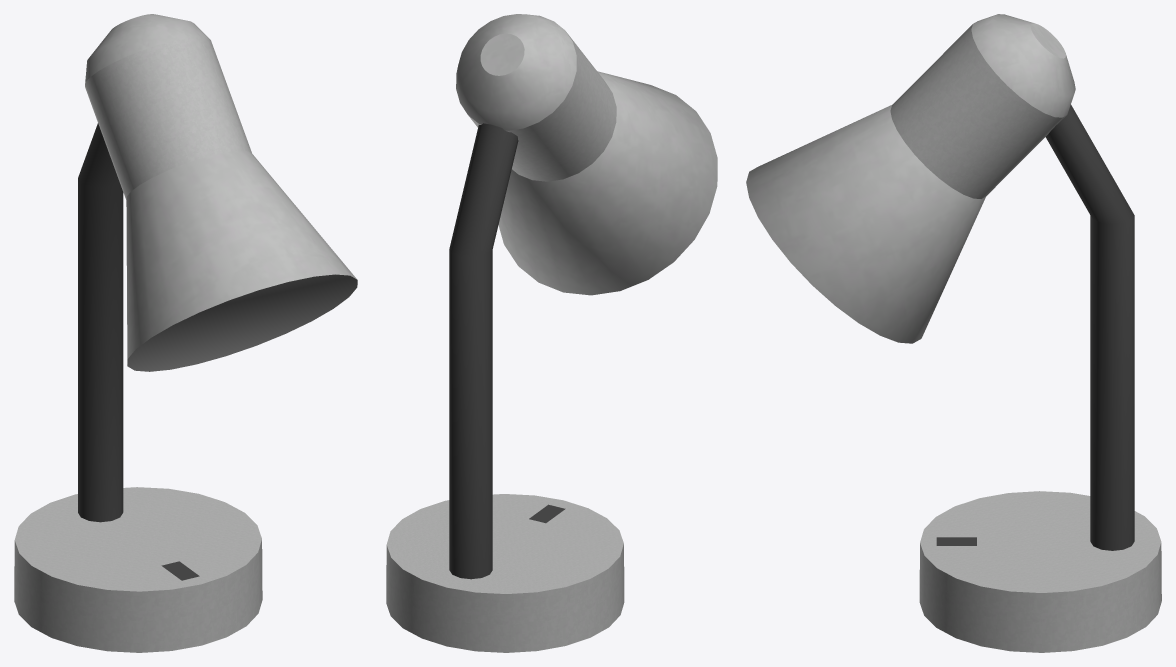
Rendered from propLamp.fbx.
3 views of the same model, side by side, from view 1: azimuth 30°, elevation 25°; view 2: azimuth 150°, elevation 25°; view 3: azimuth 270°, elevation 25° (orthographic). The views are drawn at different scales.
Parts seen in each view (by area): view 1: propLamp; view 2: propLamp; view 3: propLamp.
Part boxes in pixels (<box>): propLamp: <box>14,14,357,652</box>; propLamp: <box>386,14,717,652</box>; propLamp: <box>746,14,1161,652</box>.
Bounding box in the file's own units: 15.7 × 41.44 × 26.92.
3 materials, 1 textured.
